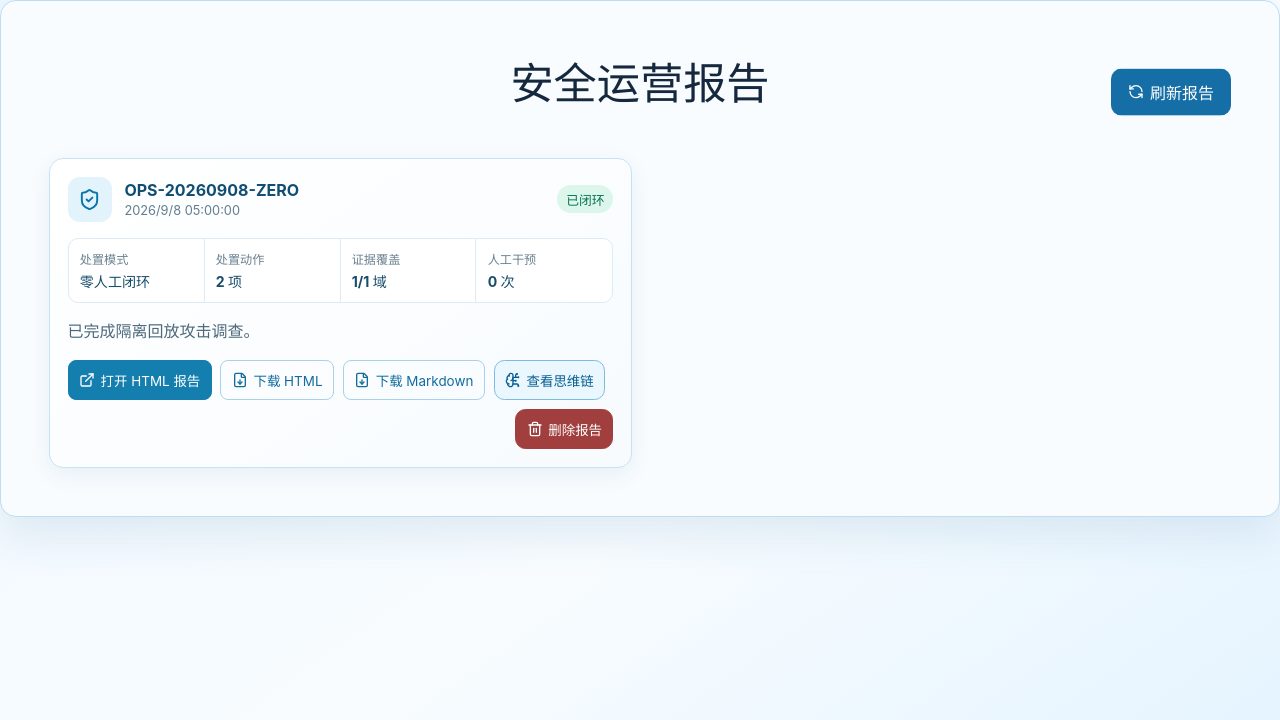
Test case: OperationsReportPage › deletes the server report after explicit confirmation
The width and height of the screenshot is (1280, 720).
Click the button "删除报告" at (564, 429), box x1=515 y1=409 x2=613 y2=449
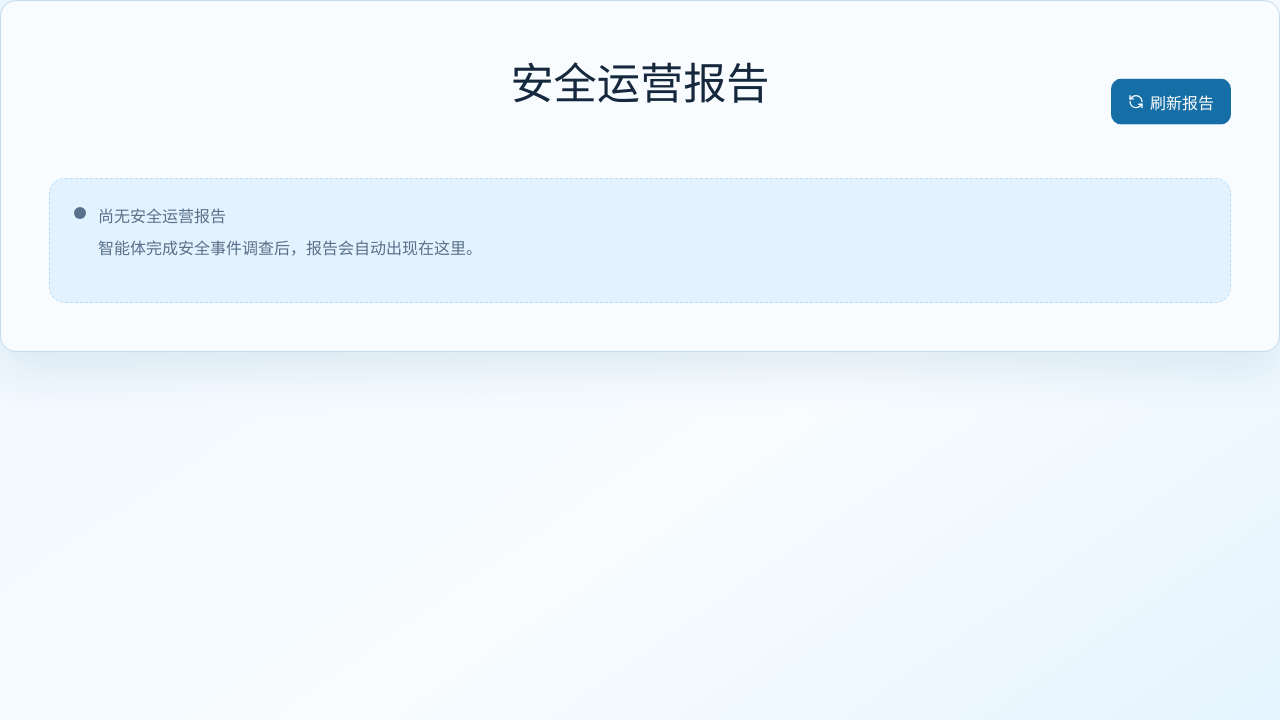
Result: the heading "OPS-20260908-ZERO" is gone
